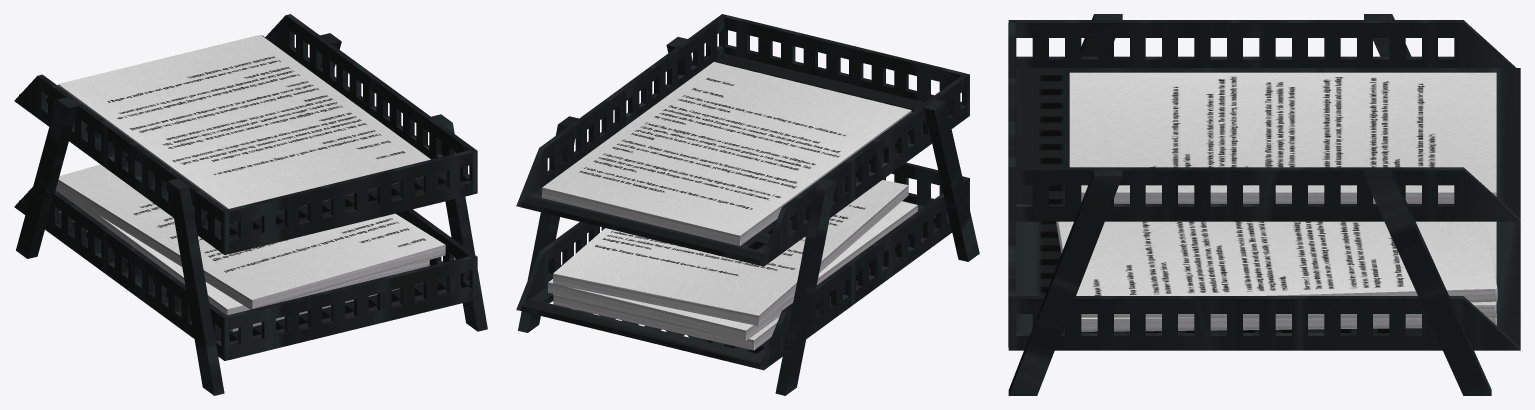
File: SuportePapelFASE1.fbx
3 views of the same model, side by side, from view 1: azimuth 30°, elevation 25°; view 2: azimuth 150°, elevation 25°; view 3: azimuth 270°, elevation 25° (orthographic). The views are drawn at different scales.
Parts seen in each view (by area): view 1: Cubo.007, Cubo.012; view 2: Cubo.012, Cubo.007; view 3: Cubo.007, Cubo.012.
Boxes of the visible parts, bbox=[...] form: Cubo.007: bbox=[14, 14, 487, 395]; Cubo.012: bbox=[55, 34, 445, 331]; Cubo.012: bbox=[542, 62, 917, 350]; Cubo.007: bbox=[516, 14, 979, 395]; Cubo.007: bbox=[1008, 14, 1520, 395]; Cubo.012: bbox=[1056, 72, 1497, 331].
Bounding box in the file's own units: 2.7 × 1.71 × 3.6.
